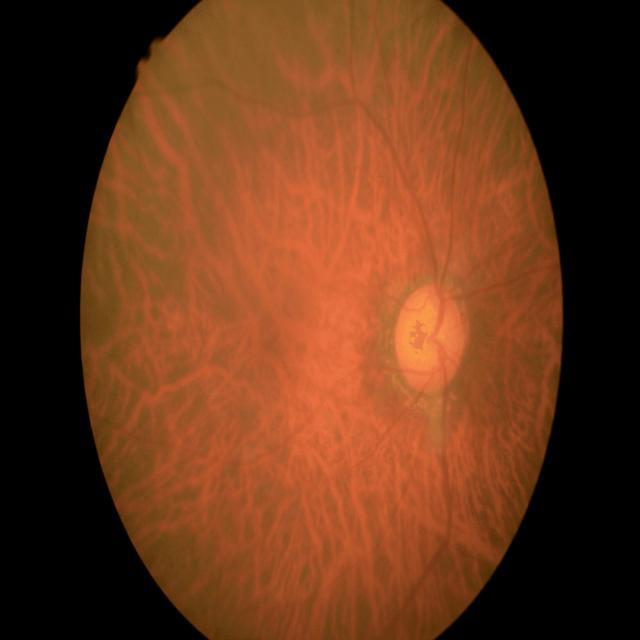cup: (409, 296, 446, 380)
disk: (396, 282, 466, 398)
